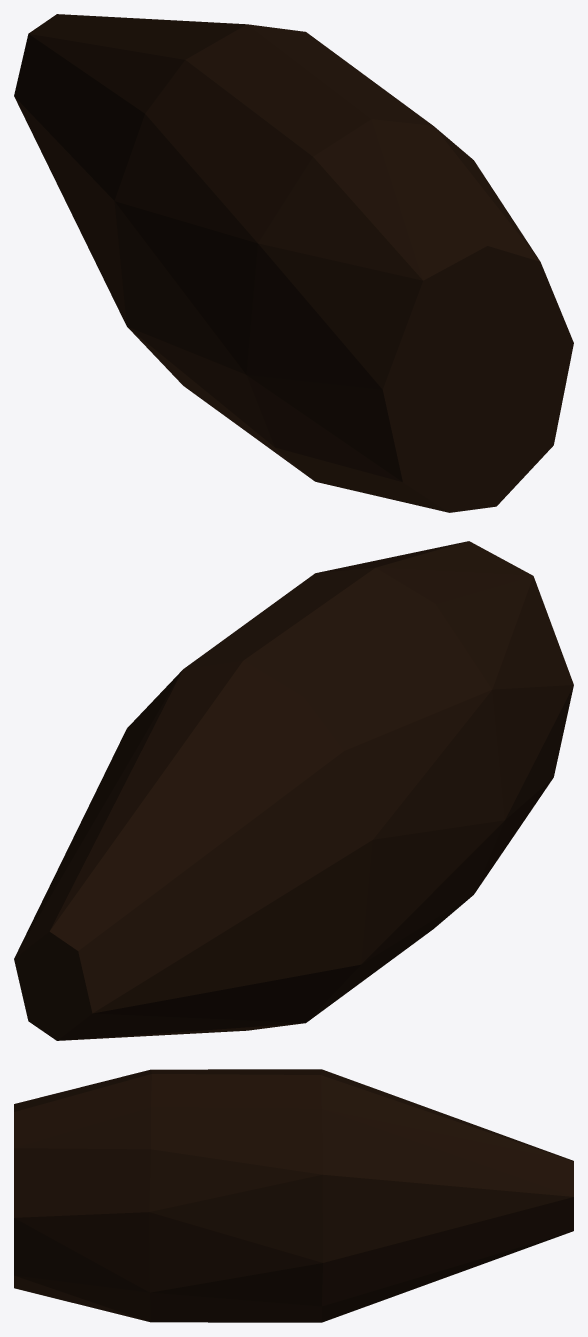
Rendered from ToastedAlmond.obj.
The picture shows the model from 3 angles, top to bottom: view 1: azimuth 30°, elevation 25°; view 2: azimuth 150°, elevation 25°; view 3: azimuth 270°, elevation 25°; orthographic projection. The views are drawn at different scales.
Parts seen in each view (by area): view 1: Cylinder; view 2: Cylinder; view 3: Cylinder.
Boxes of the visible parts, x1,y1,x2,y2 form: Cylinder: [14, 14, 573, 512]; Cylinder: [14, 541, 573, 1040]; Cylinder: [14, 1069, 573, 1322].
Size of the model in its own units: 0.0182 by 0.0248 by 0.0517.
